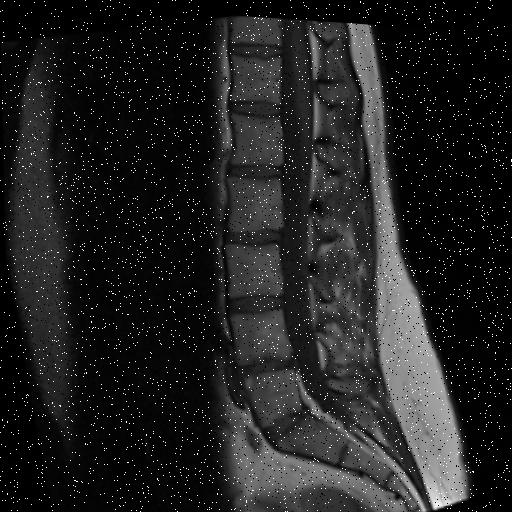L1: (231, 110, 282, 161)
L2: (226, 173, 282, 228)
L3: (225, 240, 280, 293)
L4: (229, 305, 289, 362)
L5: (244, 365, 300, 423)
S1: (275, 410, 345, 458)
